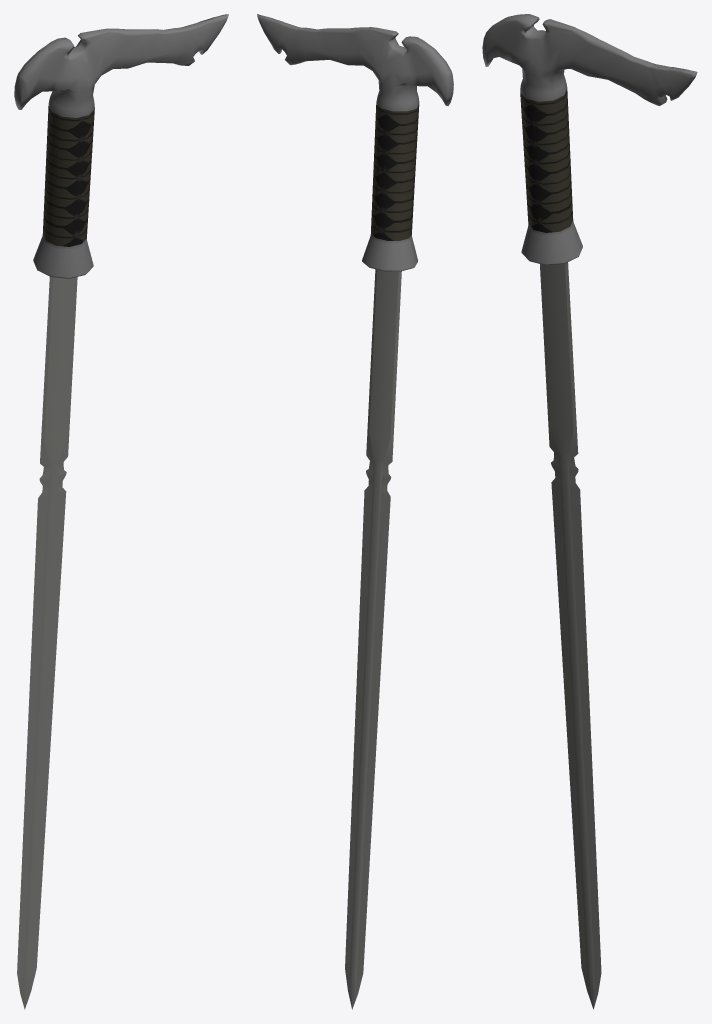
The model's file is swordCache.fbx.
3 renders of one model, left to right at view 1: azimuth 30°, elevation 25°; view 2: azimuth 150°, elevation 25°; view 3: azimuth 330°, elevation 25°, orthographic. The views are drawn at different scales.
Parts seen in each view (by area): view 1: ClothHandle; view 2: ClothHandle; view 3: ClothHandle.
Part boxes in pixels (x1=…): ClothHandle: x1=14, y1=14, x2=228, y2=1009; ClothHandle: x1=257, y1=14, x2=453, y2=1009; ClothHandle: x1=482, y1=14, x2=697, y2=1009.
Bounding box in the file's own units: 206 × 944 × 99.92.
